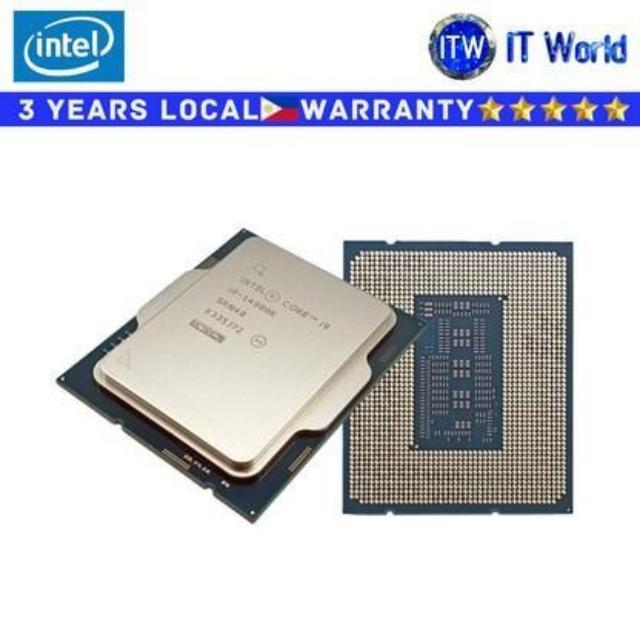CPU: (58, 226, 420, 512), (342, 232, 576, 518)
